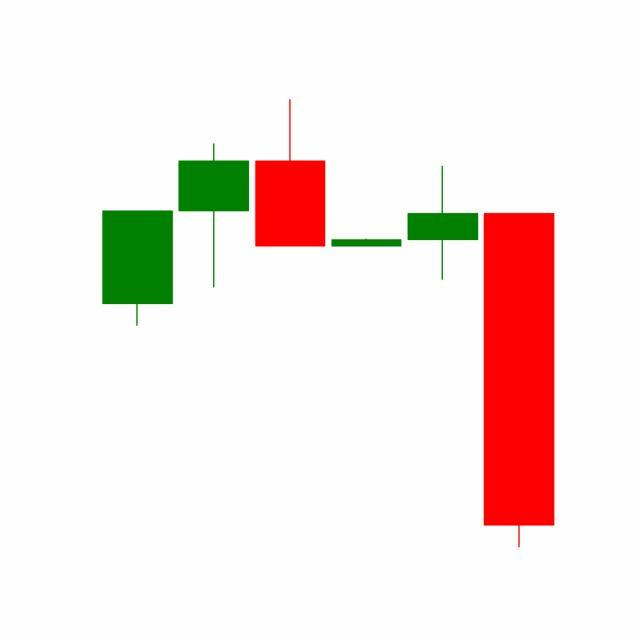Spinning Top: (404, 165, 482, 282)
